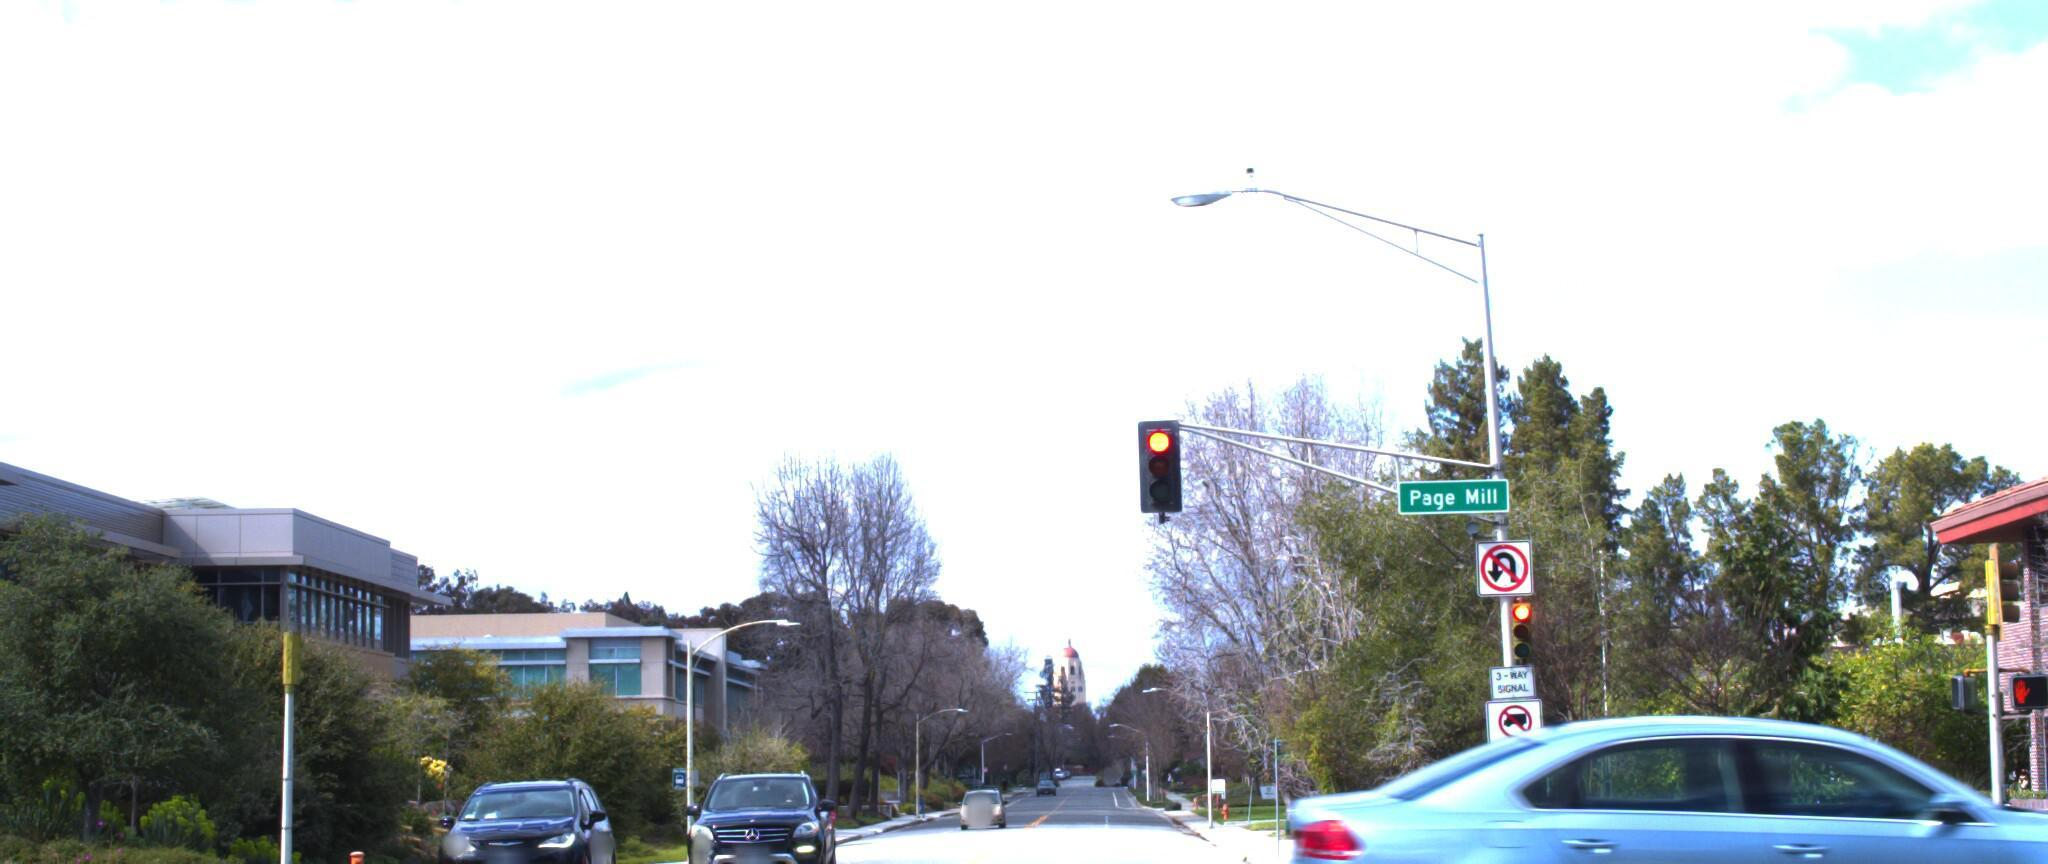car: (1255, 714, 2048, 864), (438, 773, 639, 864), (671, 775, 853, 864)
